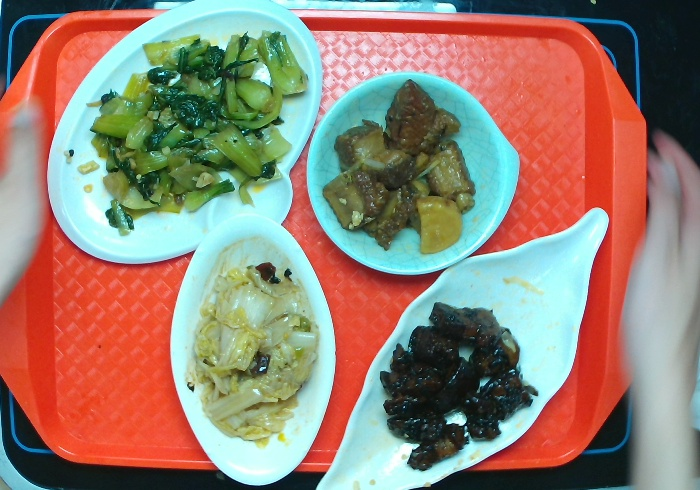RJxy-Bai_Se_Tuo_Yuan: (168, 214, 338, 486)
RJxy-Shu_Ye_Pan: (313, 205, 611, 490)
RJxy-Xiao_Jiao_Yuan_Wan: (305, 70, 522, 277)
RJxy-Zhan_Liao_Pan: (45, 1, 324, 266)
